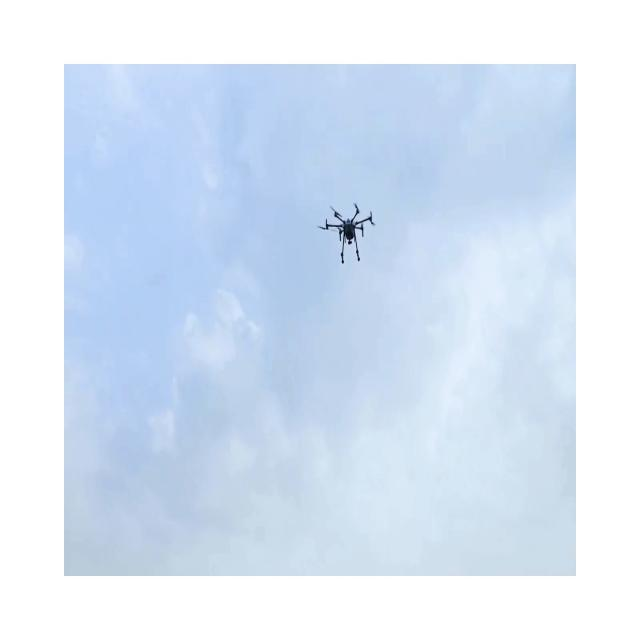drone: (317, 202, 375, 264)
